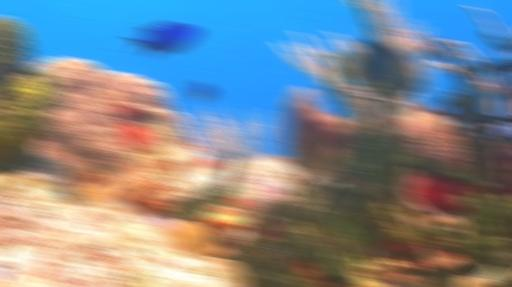Fish: (344, 38, 421, 98), (125, 23, 200, 57), (190, 80, 215, 101)
